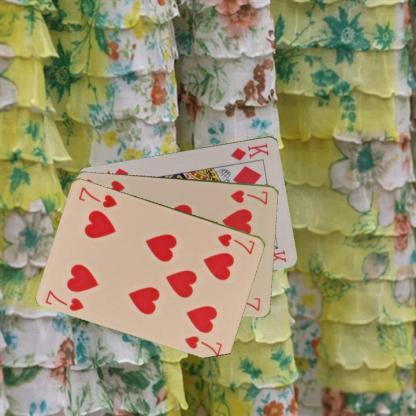7h: (44, 287, 86, 313), (214, 231, 257, 256), (228, 187, 269, 206)
Kd: (228, 140, 271, 162)
